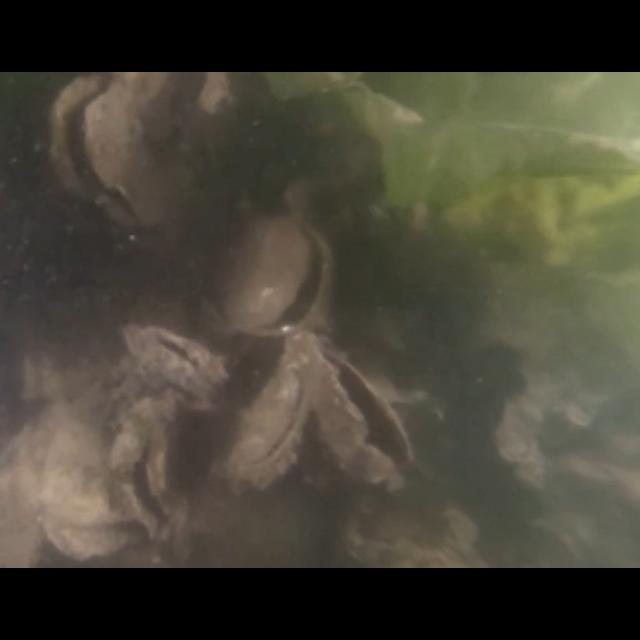Oyster-Closed: (38, 403, 140, 561)
Oyster-Open: (287, 332, 415, 488), (46, 72, 164, 230), (216, 211, 338, 339), (226, 352, 314, 486), (108, 400, 178, 540), (119, 320, 229, 398)
